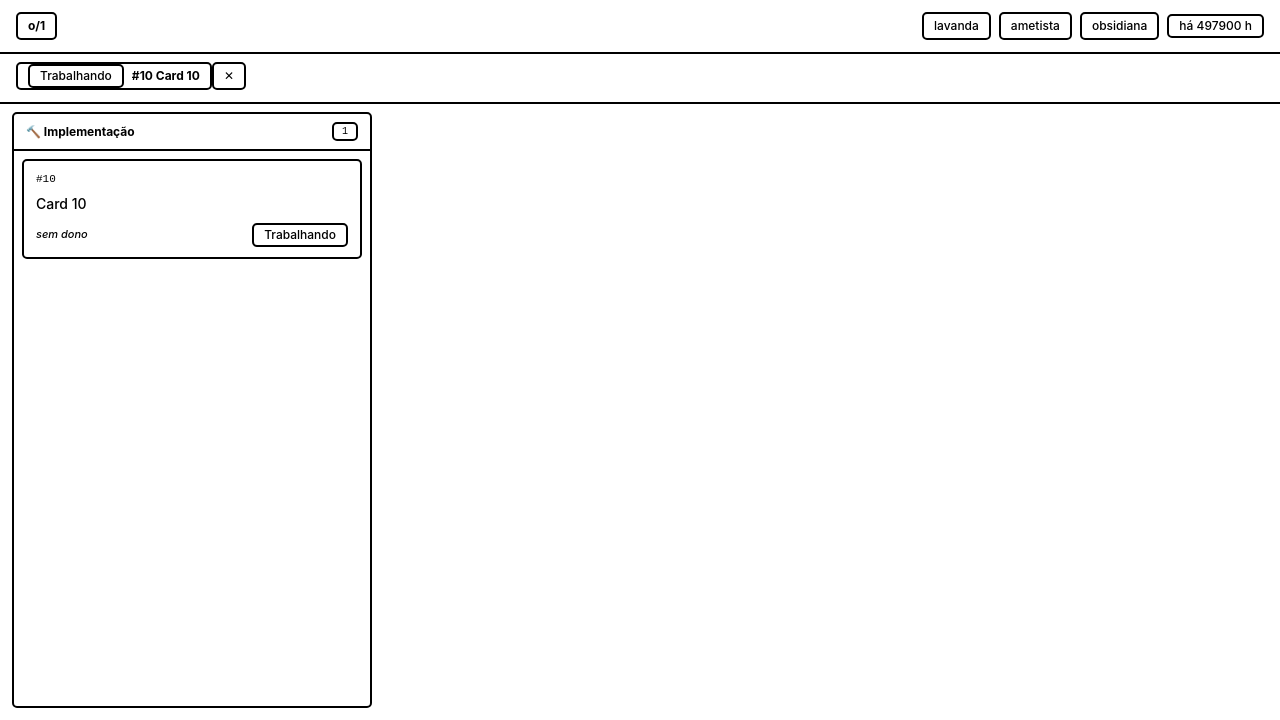
it: #114 CA-3 — fechar a aba pela tela › ✕ na aba encerra o terminal e a aba some quando o closed chega
Expected: the number of buttons with test id "board-card" is 1, [22,159,362,259]
Click the button with test id "card-tab" at (114, 76), box [16,62,212,90]
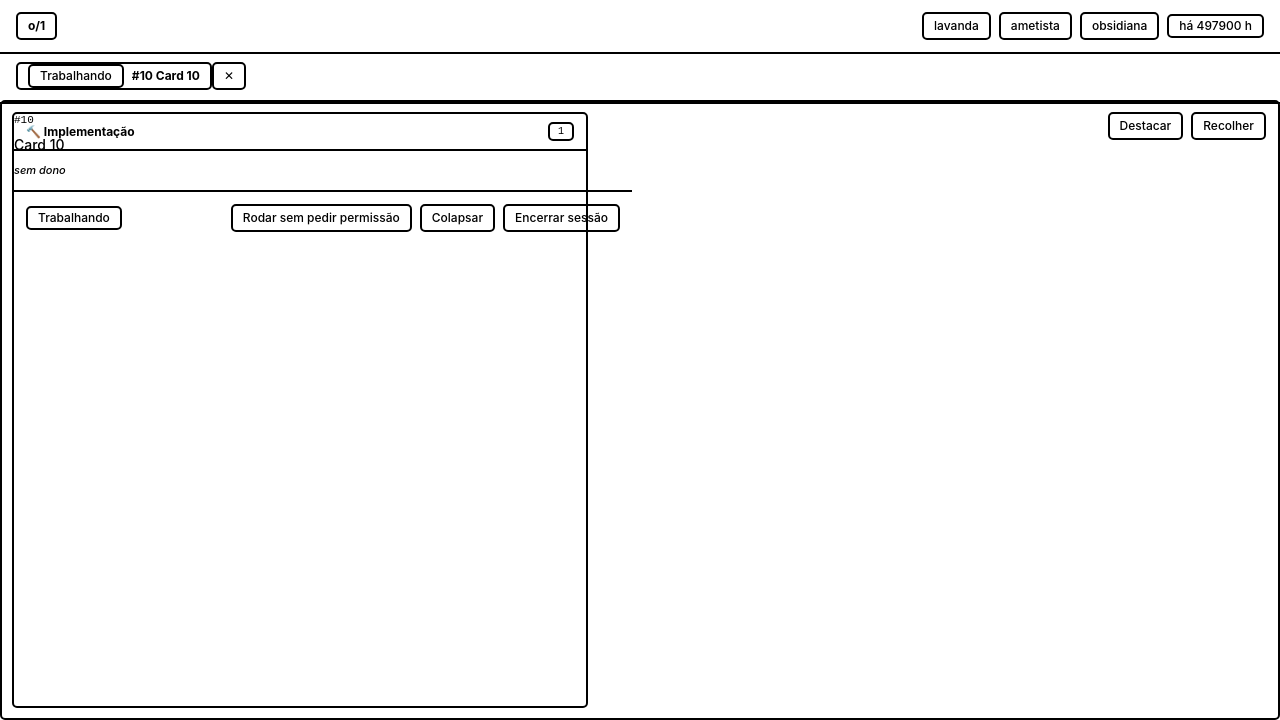
Now the element with test id "card-open-body" is shown, box [14,190,586,706]
Click the button with test id "card-tab-close" at (229, 76), box [212,62,246,90]
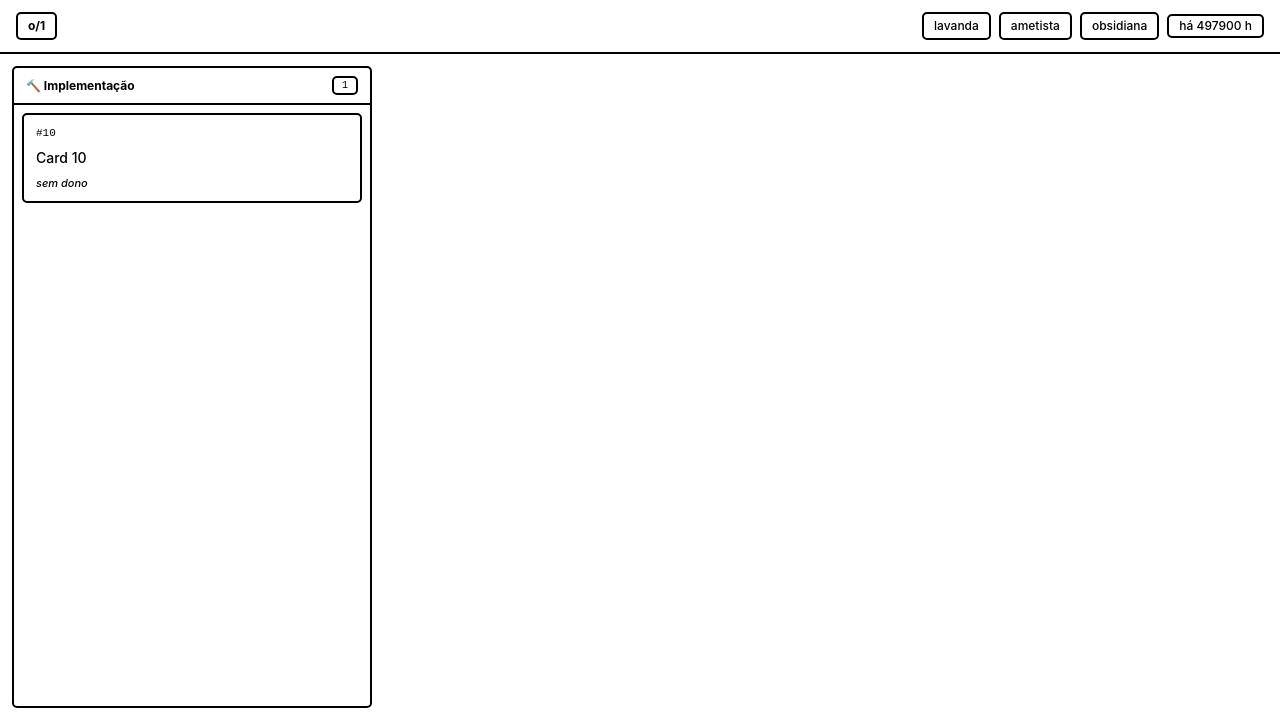
Now the element with test id "card-open-body" is gone
Now the button with test id "card-tab" is gone
